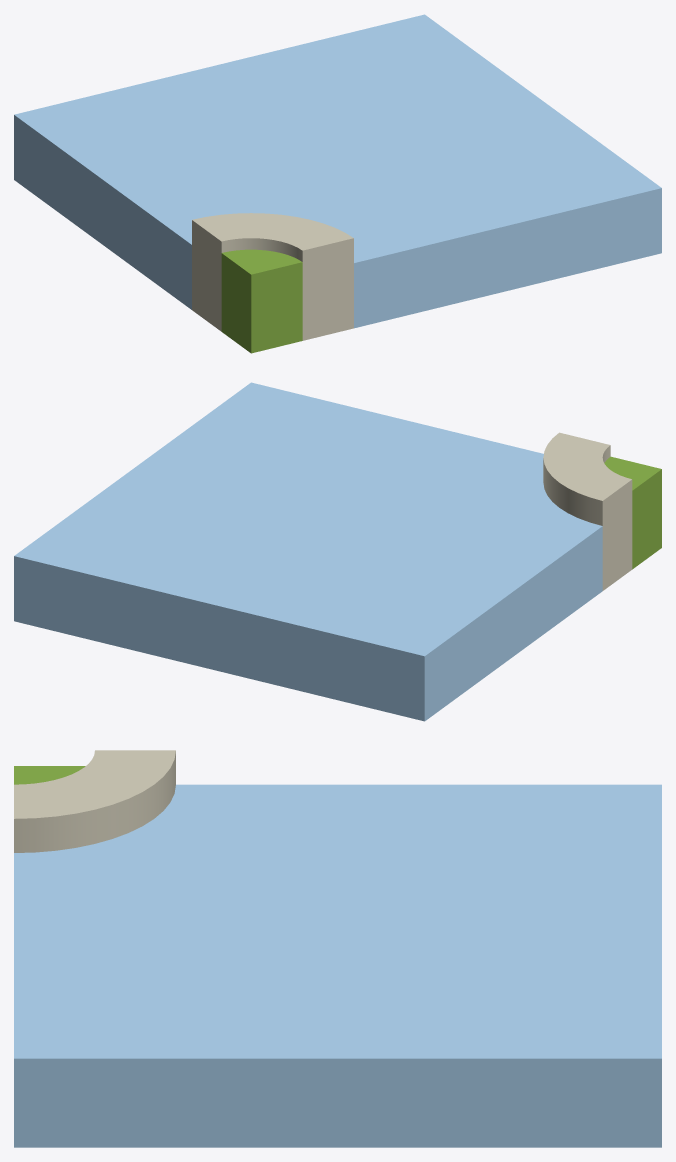
The model's file is roadTile_272.obj.
3 views of the same model, one above another, from view 1: azimuth 30°, elevation 25°; view 2: azimuth 150°, elevation 25°; view 3: azimuth 270°, elevation 25° (orthographic). The views are drawn at different scales.
Visible parts, largest first — view 1: Mesh1 Group1 Model; view 2: Mesh1 Group1 Model; view 3: Mesh1 Group1 Model.
Part boxes in pixels (<box>): Mesh1 Group1 Model: <box>14,14,661,353</box>; Mesh1 Group1 Model: <box>14,382,661,721</box>; Mesh1 Group1 Model: <box>14,750,661,1147</box>.
Size of the model in its own units: 3 by 0.63 by 3.
